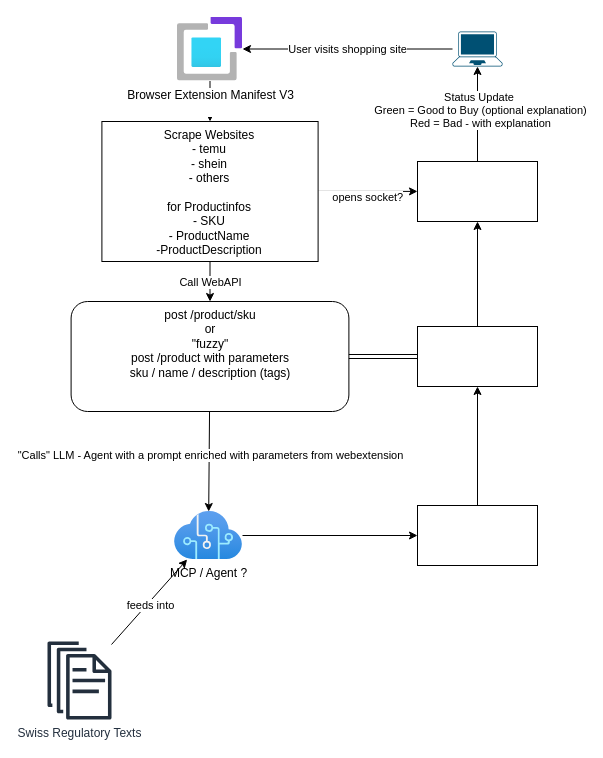
Image size: 603x758. Some labels were removed from this diagram. The centre of each missing label's shape, as x and y in pixels:
Answer ist sent via API Socket to Client?: (477,356)
LLM Determines if Product is allowed: (477,535)
